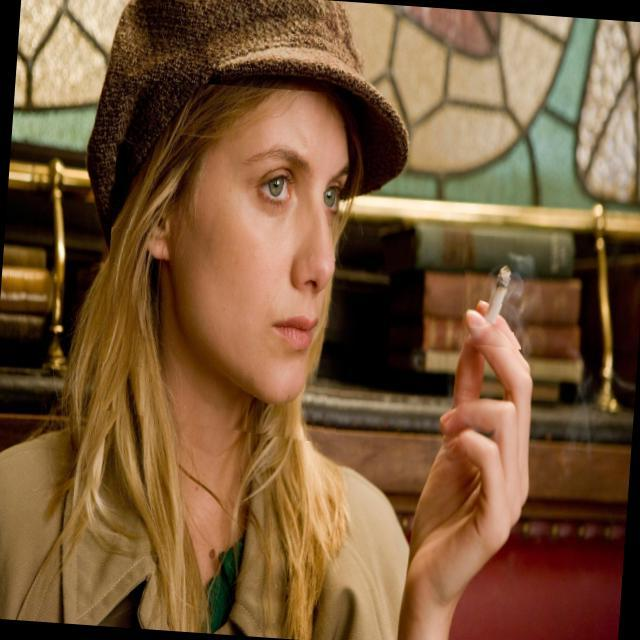cigarette: (459, 234, 529, 349)
